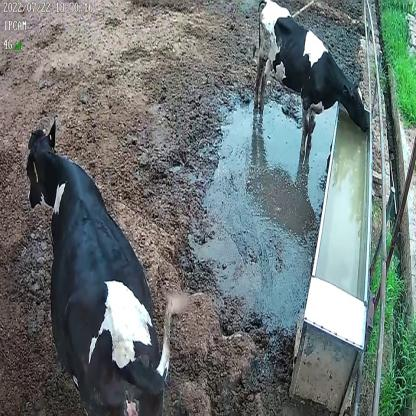cow: (23, 116, 172, 416), (252, 1, 368, 150)
